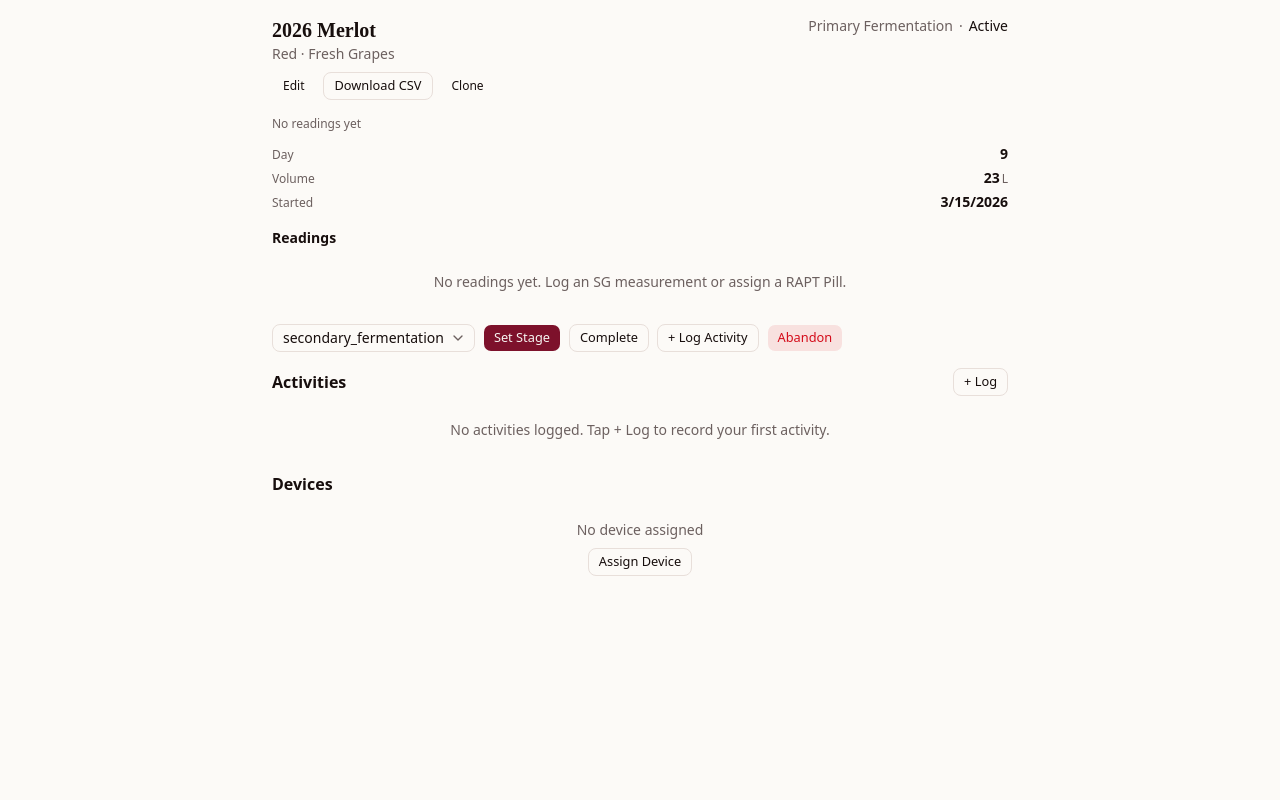
BatchDetail page › shows Abandon button for active batch with confirmation dialog
What coordinates should you click on to do the following:
click the button "Abandon"
I would click on:
 (805, 338)
Its box is [766,324,843,352].
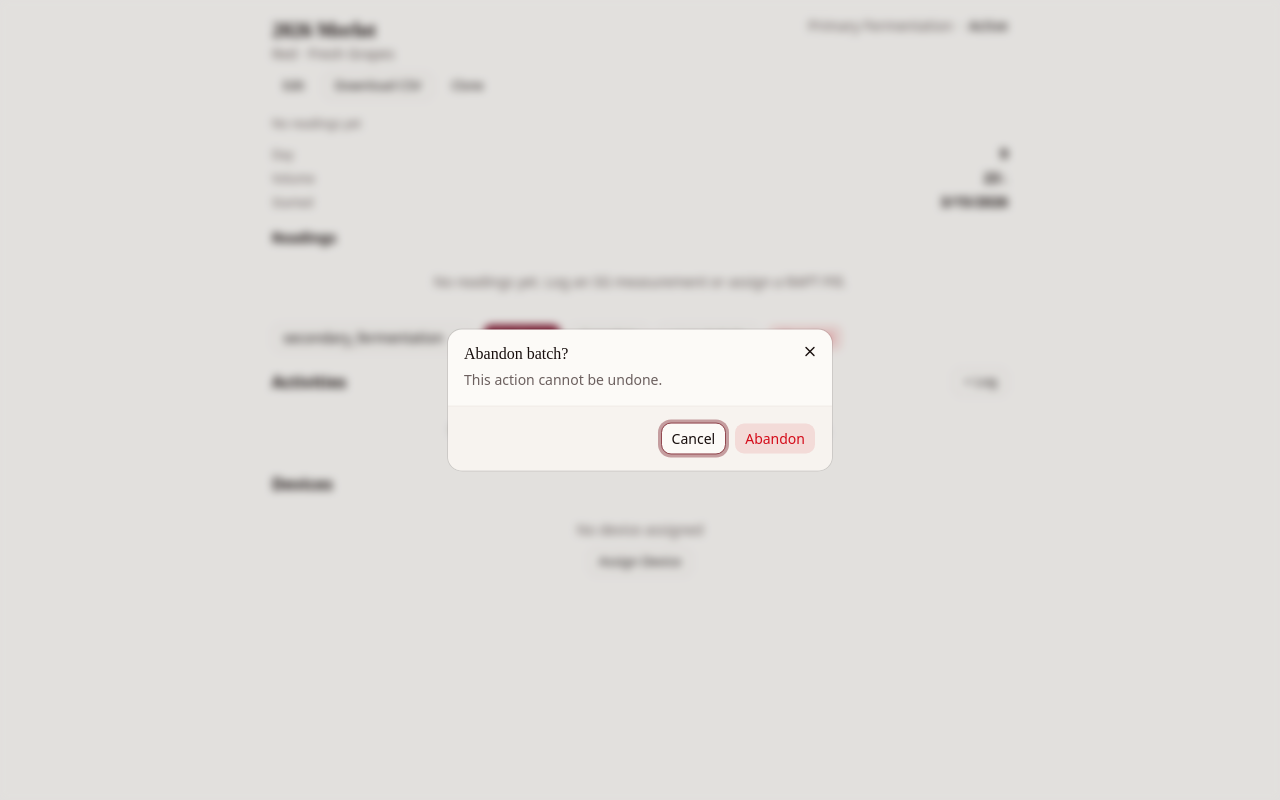
Check: the heading "Abandon batch?" is shown, box [464,344,568,362]
Check: the text "This action cannot be undone." is shown, box [464,370,662,388]
Check: the button "Cancel" is shown, box [661,422,726,454]
